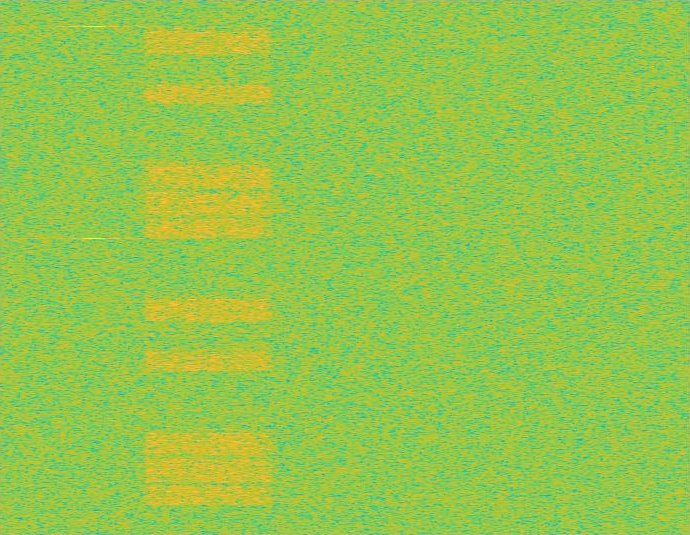LTE: (139, 0, 277, 534)
Radar: (87, 0, 101, 534)
